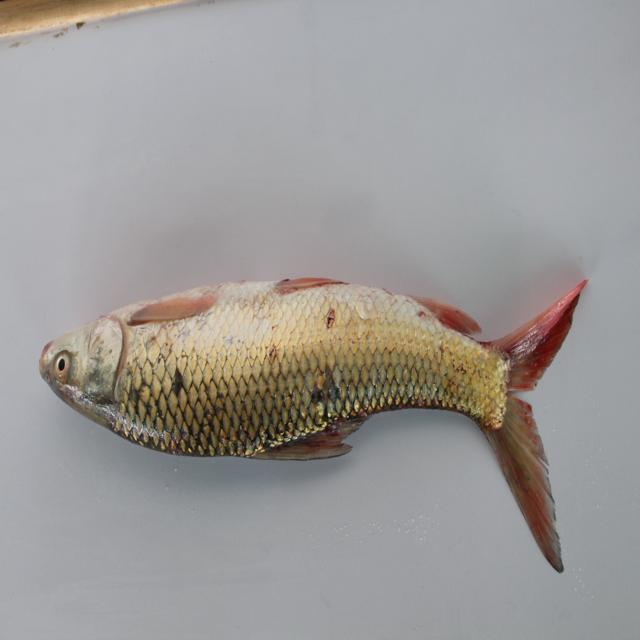Mori: (35, 260, 600, 596)
